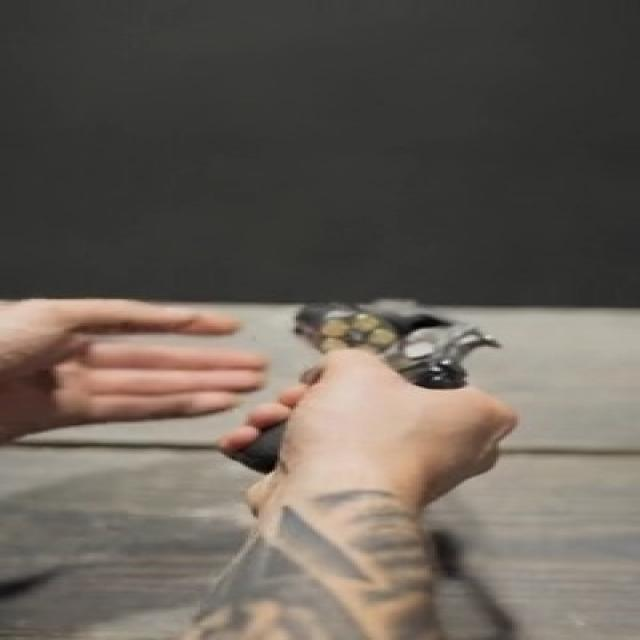Gun_Holder: (197, 284, 533, 504)
